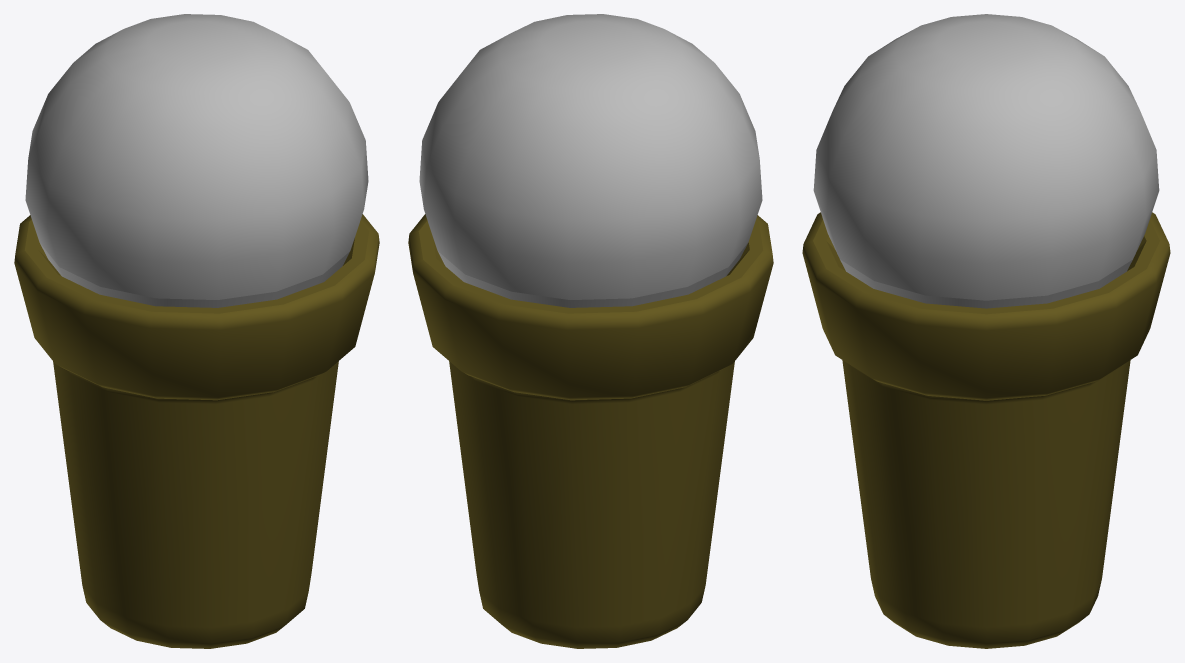
Rendered from Ice cream_4.FBX.
The picture shows the model from 3 angles, left to right: view 1: azimuth 30°, elevation 25°; view 2: azimuth 150°, elevation 25°; view 3: azimuth 270°, elevation 25°; orthographic projection.
Parts seen in each view (by area): view 1: Ice cream_4; view 2: Ice cream_4; view 3: Ice cream_4.
Boxes of the visible parts, x1=… form: Ice cream_4: x1=14, y1=14, x2=379, y2=648; Ice cream_4: x1=408, y1=14, x2=773, y2=648; Ice cream_4: x1=802, y1=14, x2=1170, y2=648.
Size of the model in its own units: 580 by 580 by 992.
